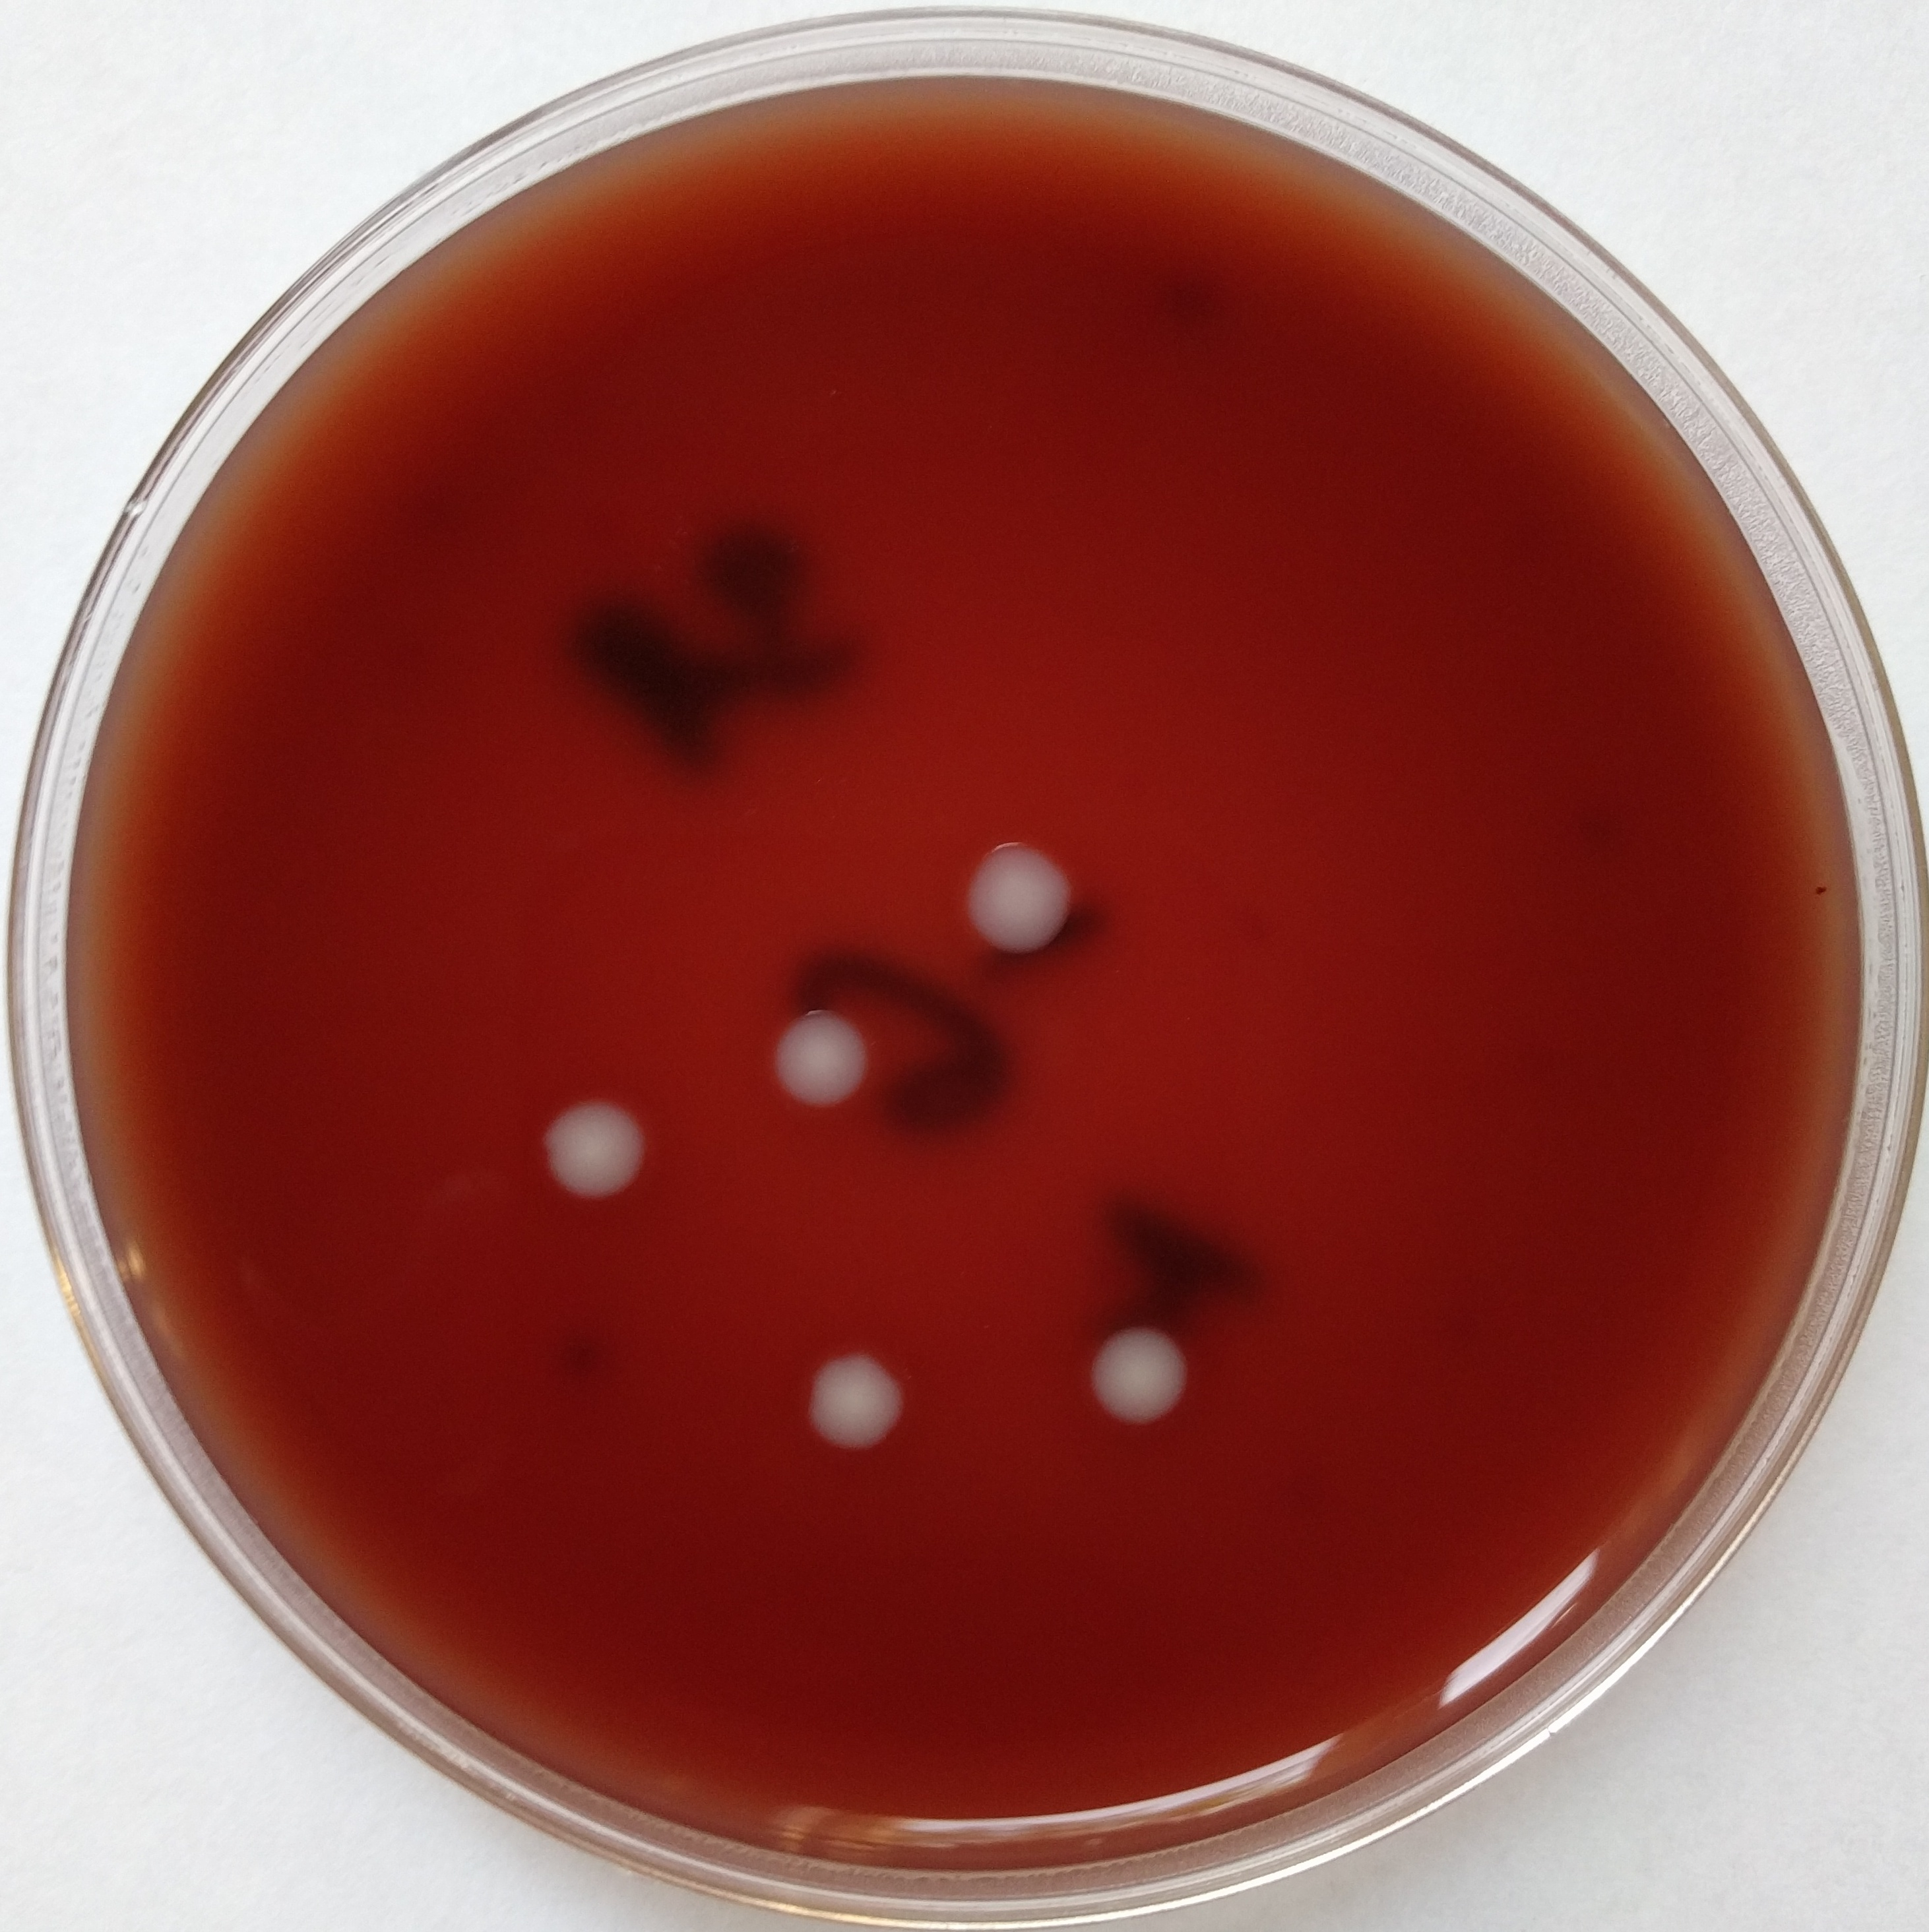sp03: (500, 1077, 677, 1226), (949, 816, 1115, 970), (774, 1337, 945, 1473), (767, 994, 903, 1127), (1070, 1307, 1189, 1443)
